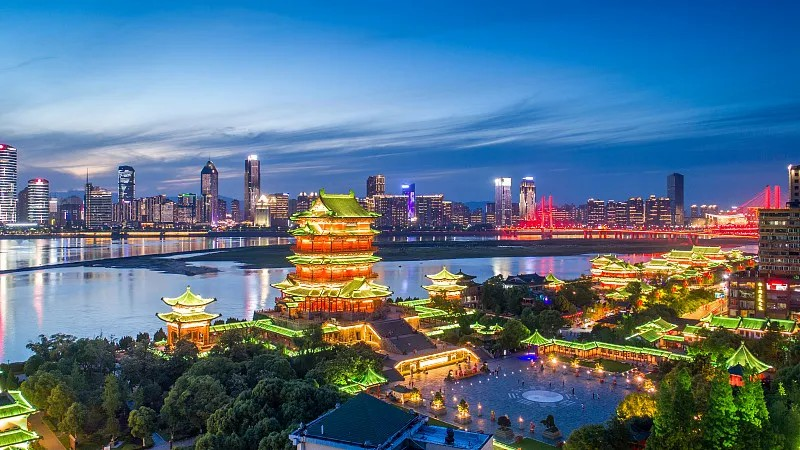Teng: (269, 189, 394, 320)
